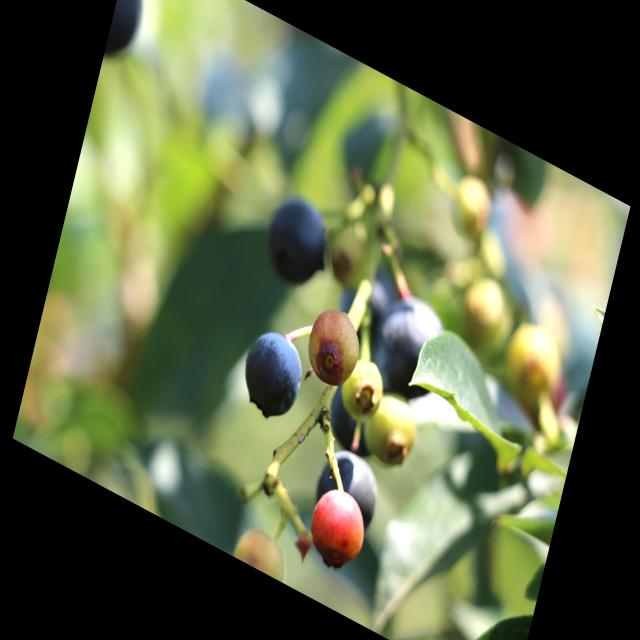blueberry: (368, 284, 448, 408), (235, 319, 313, 434), (264, 189, 333, 293), (315, 441, 385, 533), (343, 254, 399, 348), (321, 382, 382, 460)
blueberry-halfripe: (297, 475, 375, 581)
blueberry-unripe: (302, 298, 367, 394), (366, 387, 420, 473), (339, 349, 388, 423)
